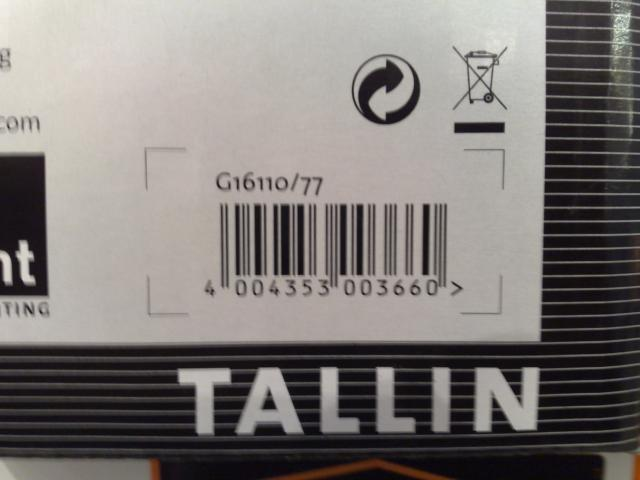Barcode: (198, 194, 450, 304)
